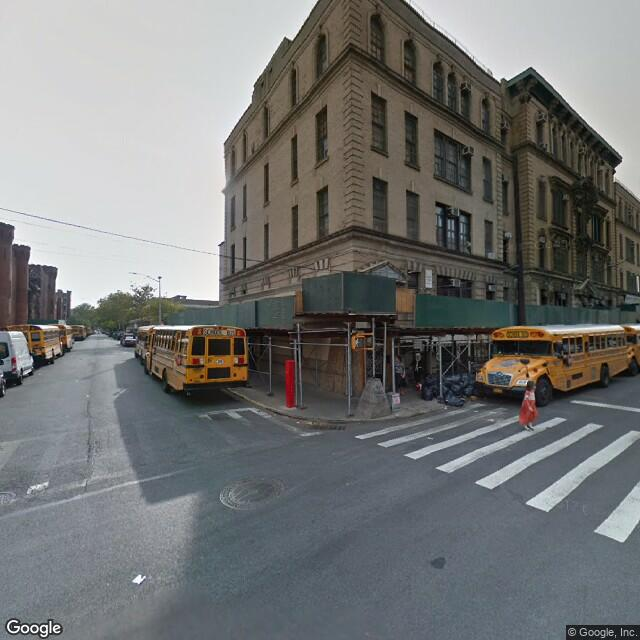litter: (124, 568, 160, 586)
